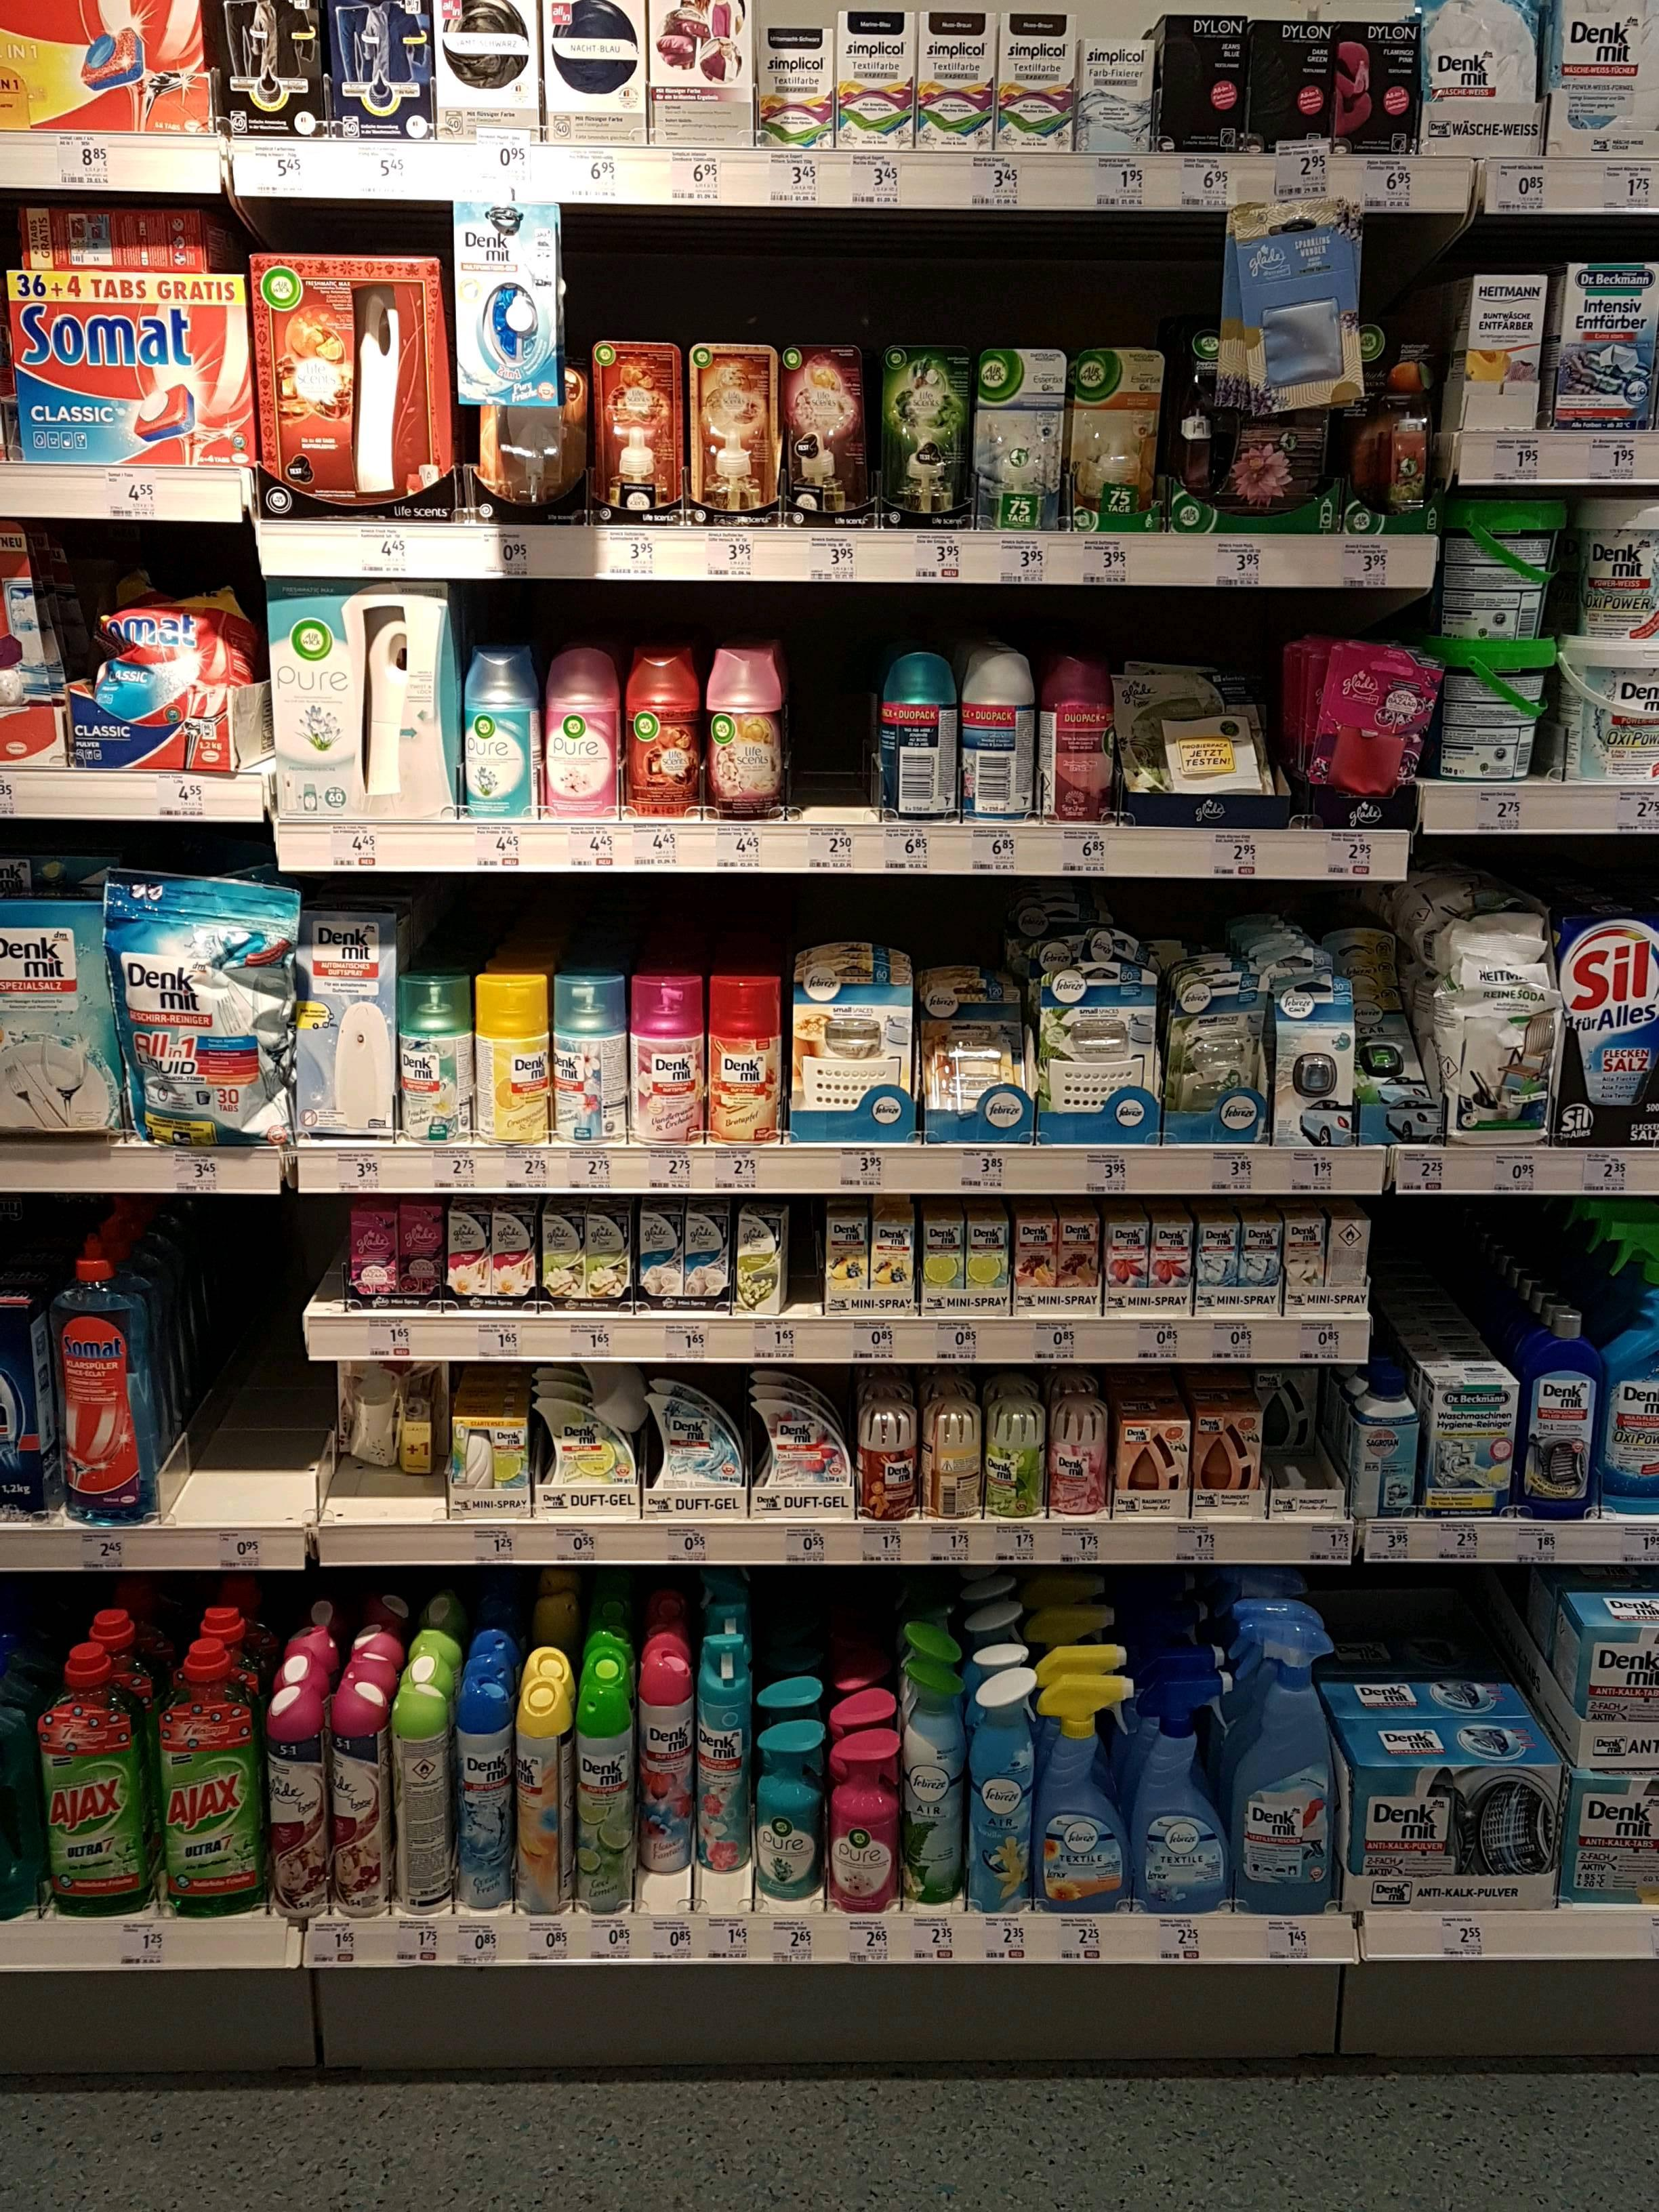empty: (204, 1221, 314, 1517), (781, 590, 871, 812)
misalignment: (75, 587, 256, 716), (734, 1207, 816, 1320)
